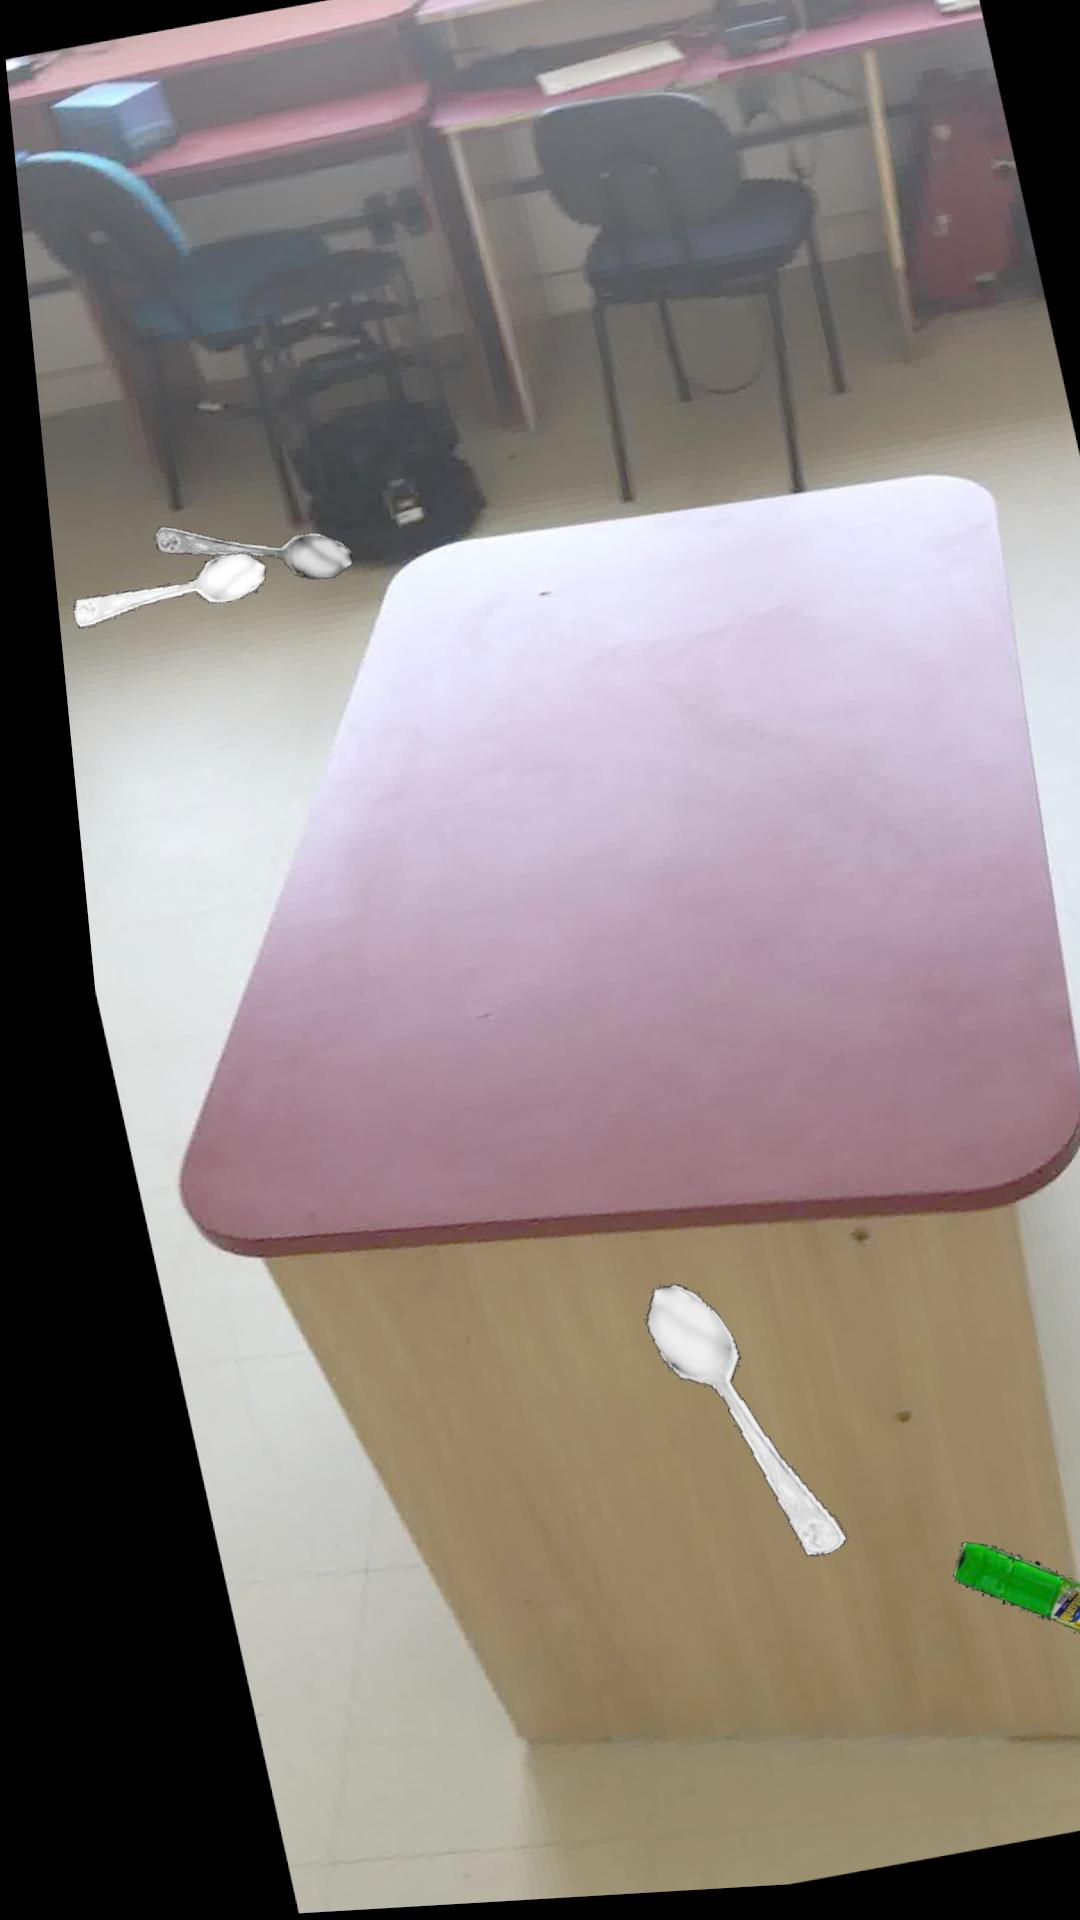cleaner: (920, 1549, 1080, 1651)
spoon: (618, 1288, 816, 1563), (61, 553, 255, 626), (145, 526, 342, 580)
